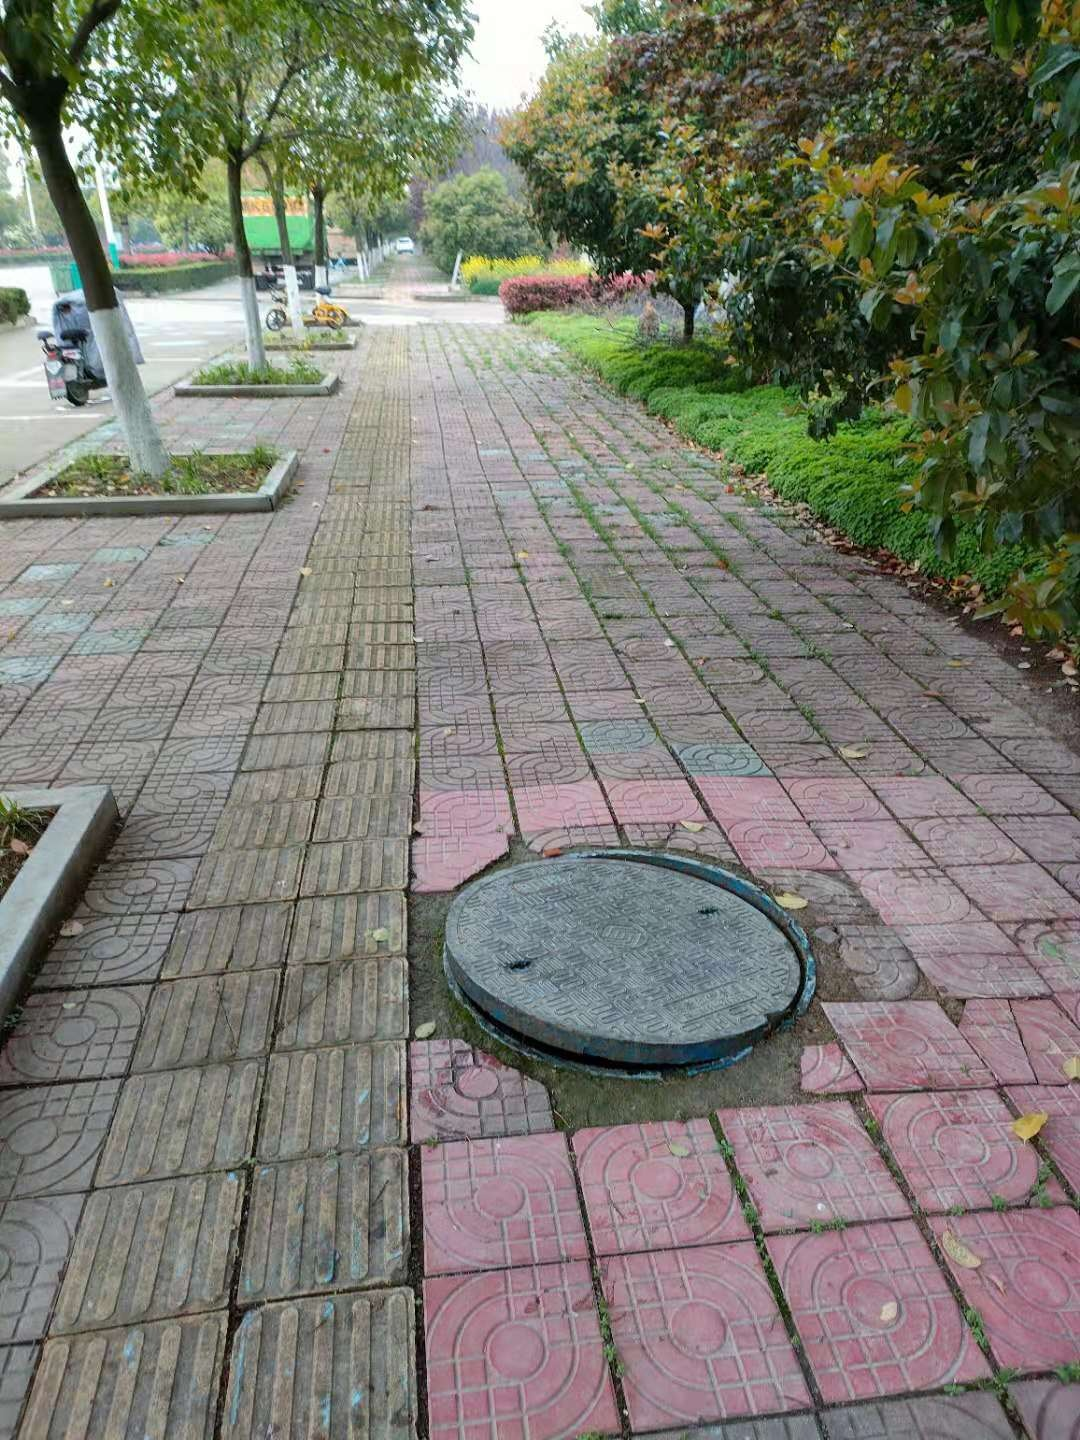well: (446, 842, 820, 1081)
